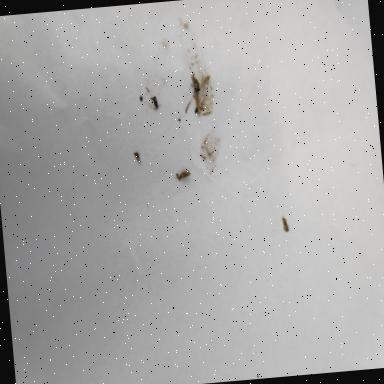pbw: (178, 170, 192, 180), (134, 152, 142, 162)
